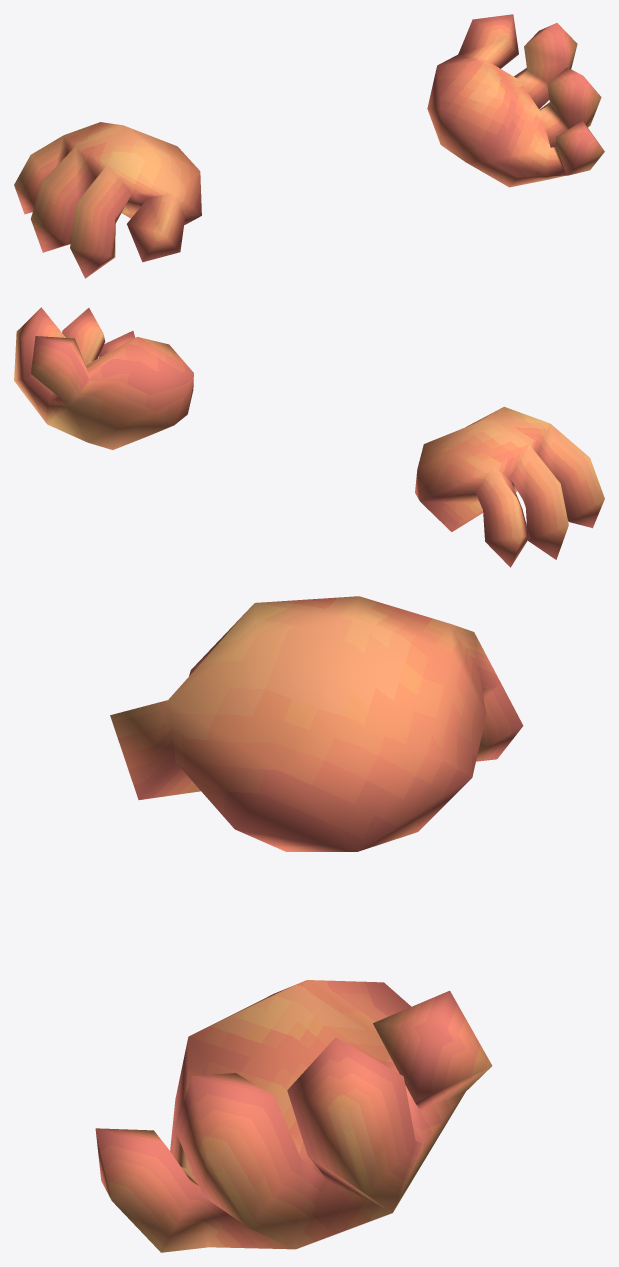
The model's file is Worm_Hands.obj.
3 renders of one model, top to bottom at view 1: azimuth 30°, elevation 25°; view 2: azimuth 150°, elevation 25°; view 3: azimuth 270°, elevation 25°, orthographic. The views are drawn at different scales.
Visible parts, largest first — view 1: Inst3D_RefRep.223; view 2: Inst3D_RefRep.223; view 3: Inst3D_RefRep.223.
Part boxes in pixels (x1,y1,x2,y2): Inst3D_RefRep.223: [14, 14, 604, 278]; Inst3D_RefRep.223: [14, 307, 604, 567]; Inst3D_RefRep.223: [95, 596, 523, 1252].
Size of the model in its own units: 4.03 by 0.9009 by 1.39.
Materials: 1 (1 with a texture image).
